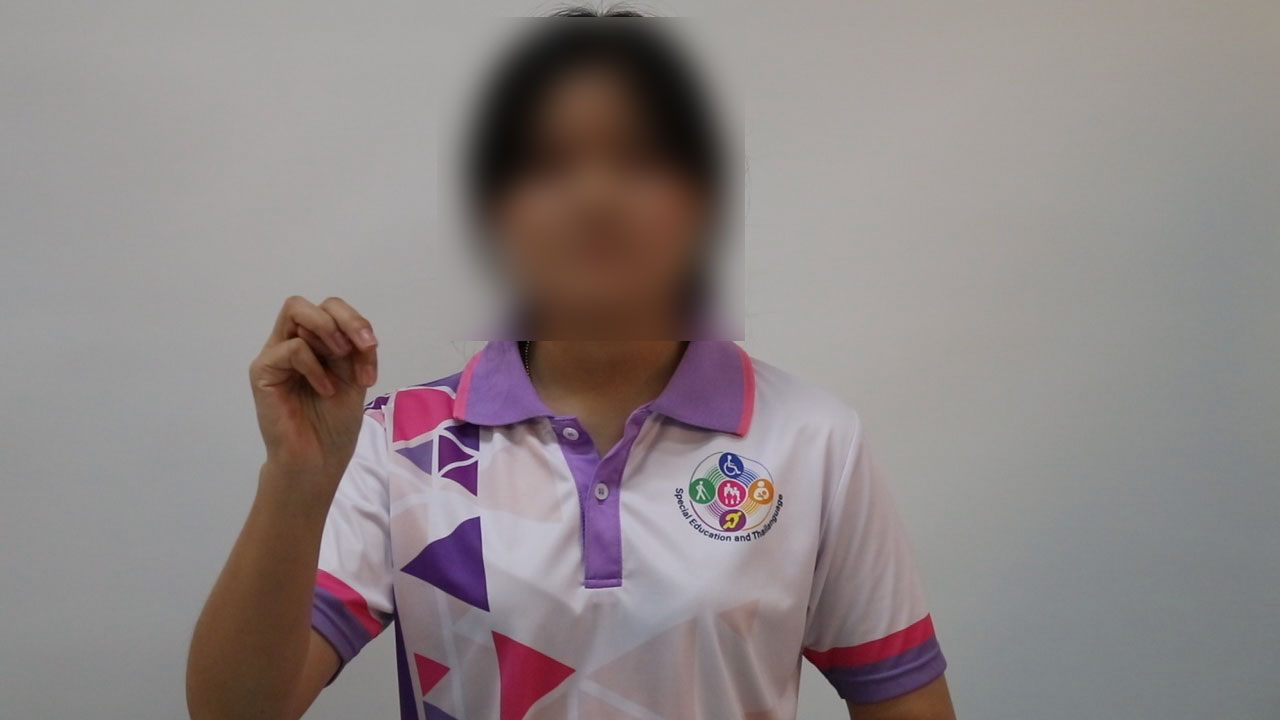mor: (236, 271, 385, 488)
